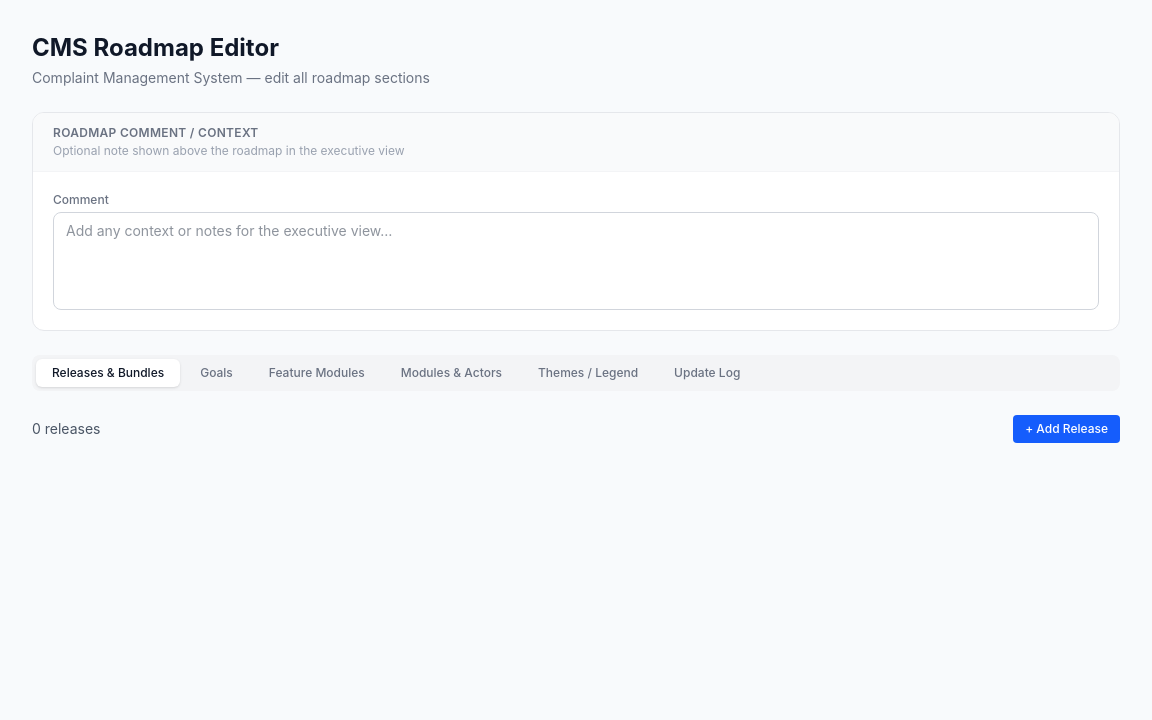
it: ComplaintsRoadmapEditor (via RoadmapEditor with cms slug) › T-50.22: pre-seeded theme renders in Themes tab
Step 1. Click the button "Themes / Legend" → [588, 373], box left=522, top=359, right=654, bottom=387
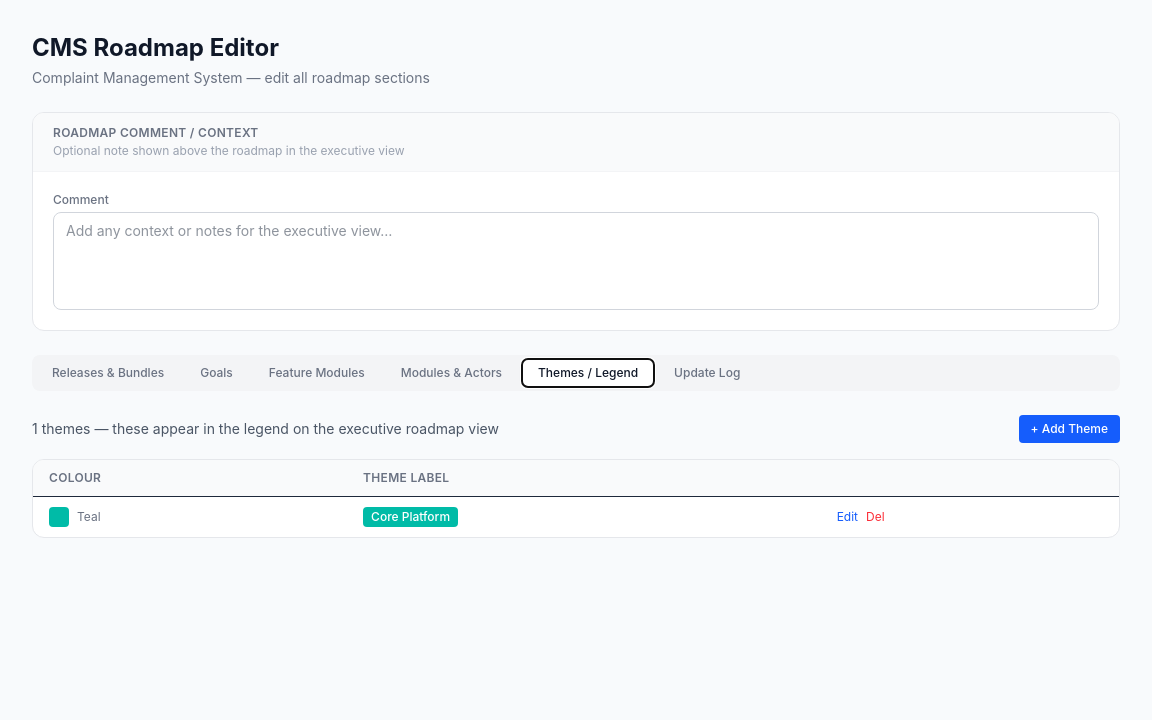
Expected: the text "Core Platform" is shown, left=363, top=507, right=458, bottom=527
